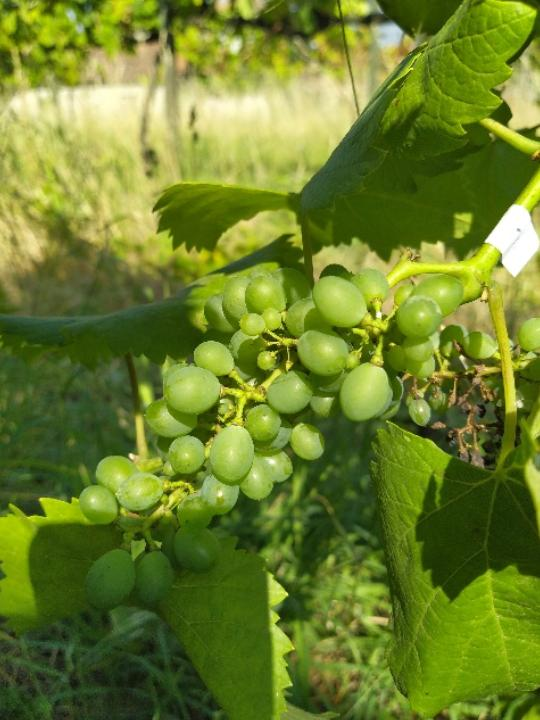grape: (68, 263, 476, 619)
